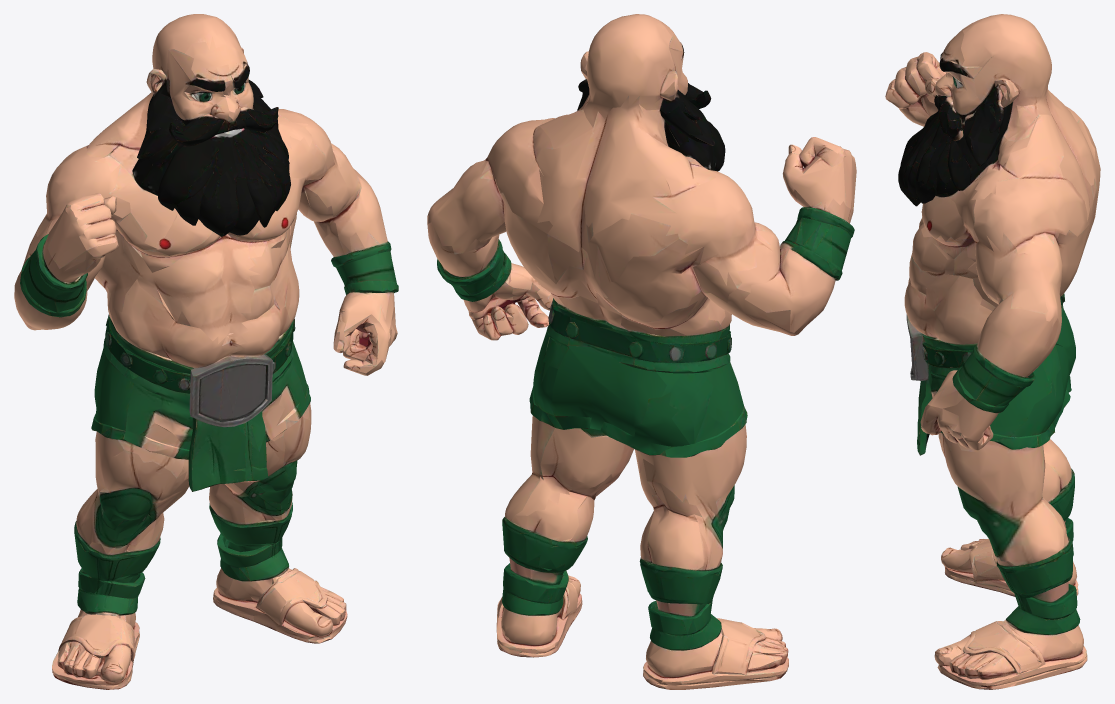
The model's file is boulder2.glb.
3 renders of one model, left to right at view 1: azimuth 30°, elevation 25°; view 2: azimuth 150°, elevation 25°; view 3: azimuth 270°, elevation 25°, orthographic. The views are drawn at different scales.
Size of the model in its own units: 1.21 by 1.9 by 0.6111.
1 material, 1 textured.
